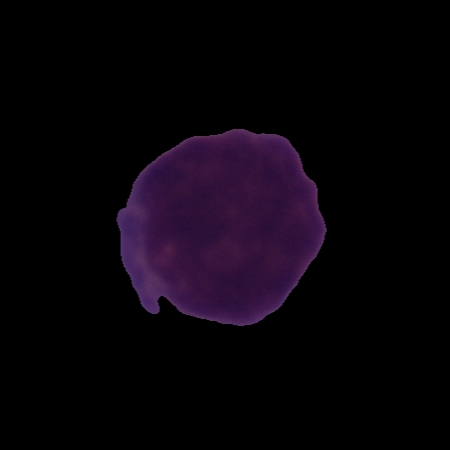ALL: (114, 125, 329, 328)
